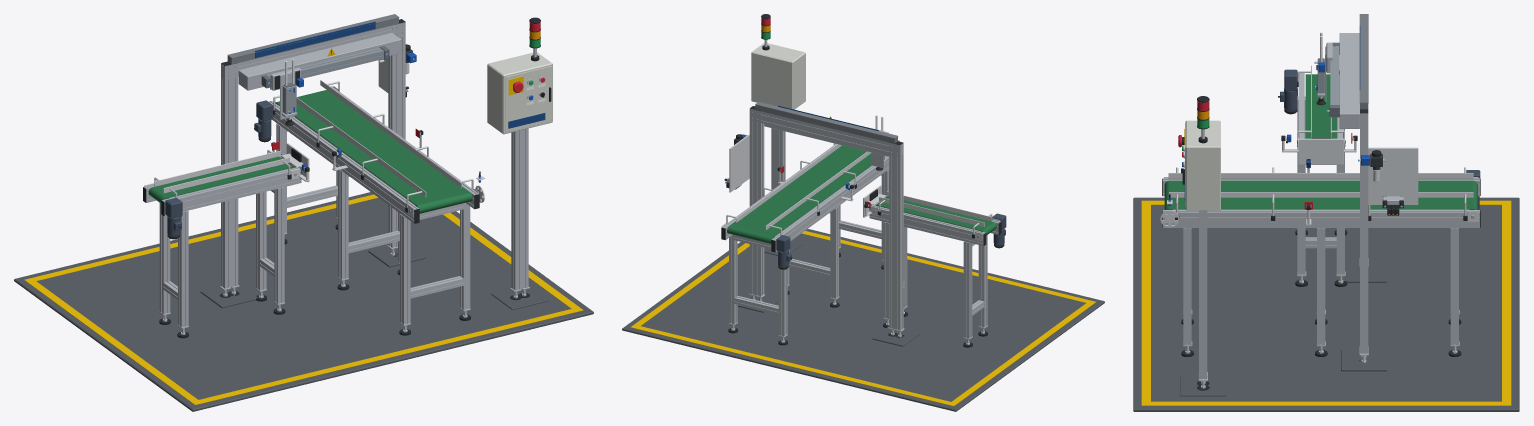
The model's file is pickplace.glb.
3 renders of one model, left to right at view 1: azimuth 30°, elevation 25°; view 2: azimuth 150°, elevation 25°; view 3: azimuth 270°, elevation 25°, orthographic. The views are drawn at different scales.
Parts seen in each view (by area): view 1: static_base, static_alu, belt_out, static_warn, static_inox, static_cabinet, static_black, belt_in, static_accent, static_duct, static_motor, static_cylbody (+2 smaller); view 2: static_base, static_alu, belt_out, static_warn, static_inox, static_cabinet, static_duct, static_black, belt_in, static_motor; view 3: static_base, static_alu, static_inox, static_warn, belt_out, static_cabinet, static_black, belt_in, static_duct, static_motor, slide_1A, static_cylbody (+1 smaller).
Part boxes in pixels (<box>): static_base: <box>14,192,593,411</box>; static_alu: <box>144,22,529,328</box>; belt_out: <box>275,90,472,213</box>; static_warn: <box>24,48,583,404</box>; static_inox: <box>144,59,485,217</box>; static_cabinet: <box>487,52,552,134</box>; static_black: <box>143,17,551,338</box>; belt_in: <box>148,156,294,203</box>; static_accent: <box>255,21,545,128</box>; static_duct: <box>227,14,399,64</box>; static_motor: <box>165,100,273,236</box>; static_cylbody: <box>267,48,383,85</box>; static_base: <box>622,229,1104,411</box>; static_alu: <box>722,108,1000,339</box>; belt_out: <box>727,145,871,243</box>; static_warn: <box>631,116,1095,406</box>; static_inox: <box>721,134,1000,241</box>; static_cabinet: <box>751,43,805,109</box>; static_duct: <box>755,102,898,143</box>; static_black: <box>721,14,1004,347</box>; belt_in: <box>876,196,996,235</box>; static_motor: <box>776,213,1006,266</box>; static_base: <box>1133,197,1519,411</box>; static_alu: <box>1162,33,1479,381</box>; static_inox: <box>1160,65,1478,227</box>; static_warn: <box>1141,129,1511,405</box>; belt_out: <box>1164,180,1477,209</box>; static_cabinet: <box>1185,120,1220,210</box>; static_black: <box>1162,70,1480,390</box>; belt_in: <box>1305,74,1336,138</box>; static_duct: <box>1359,14,1368,109</box>; static_motor: <box>1280,69,1480,208</box>; slide_1A: <box>1314,42,1332,102</box>; static_cylbody: <box>1330,46,1339,104</box>.
Size of the model in its own units: 2.4 by 1.58 by 1.85.
